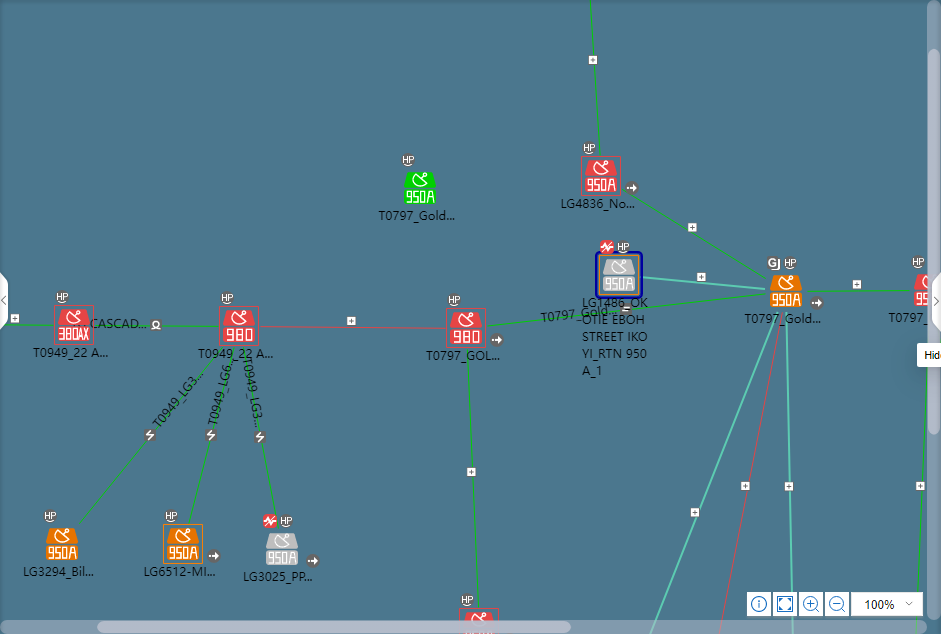Link_Blue: (650, 308, 776, 627), (785, 395, 795, 595), (644, 273, 760, 286)
Link_Green: (79, 349, 218, 518), (620, 185, 763, 283), (485, 291, 763, 330), (185, 343, 235, 521), (238, 343, 284, 527), (915, 367, 931, 589), (468, 421, 484, 613), (591, 51, 600, 152), (3, 320, 53, 330)
Link_Red: (720, 308, 779, 608)
RTN_Gray: (597, 255, 637, 295), (268, 532, 301, 565)
RTN_Green: (403, 173, 437, 207)
RTN_Orange: (162, 526, 201, 565), (44, 526, 76, 565), (768, 273, 800, 305)
RTN_Red: (56, 308, 96, 342), (450, 308, 482, 348), (585, 161, 619, 195), (221, 308, 254, 342), (915, 273, 931, 305), (462, 614, 494, 624)
